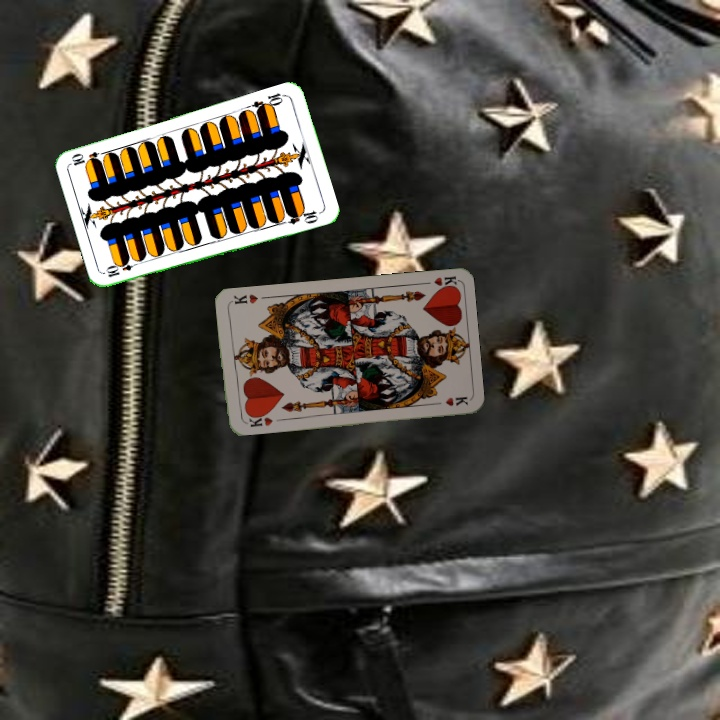E10: (248, 89, 288, 115), (102, 257, 142, 280)
HK: (417, 272, 458, 292), (240, 409, 275, 430)
